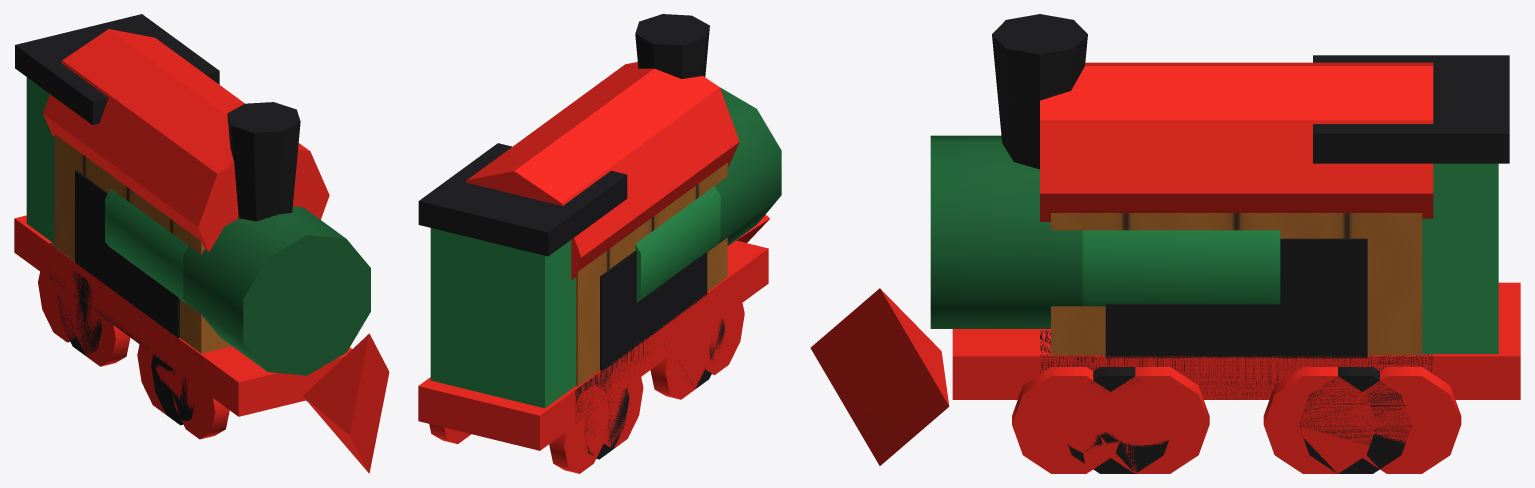
The model's file is Rim_Rails_Cars.fbx.
3 renders of one model, left to right at view 1: azimuth 30°, elevation 25°; view 2: azimuth 150°, elevation 25°; view 3: azimuth 270°, elevation 25°, orthographic. The views are drawn at different scales.
Visible parts, largest first — view 1: Loco, Wagon, Tender; view 2: Loco, Wagon, Tender; view 3: Loco, Wagon, Tender.
Part boxes in pixels (left/top/right/bottom): Loco: left=14, top=14, right=389, bottom=473; Wagon: left=43, top=29, right=329, bottom=425; Tender: left=71, top=170, right=183, bottom=414; Loco: left=418, top=14, right=781, bottom=473; Wagon: left=466, top=62, right=739, bottom=459; Tender: left=596, top=250, right=710, bottom=448; Loco: left=810, top=14, right=1520, bottom=473; Wagon: left=1040, top=62, right=1433, bottom=473; Tender: left=1095, top=238, right=1378, bottom=473.
Bounding box in the file's own units: 0.1041 × 0.205 × 0.3251.
1 material, 1 textured.
